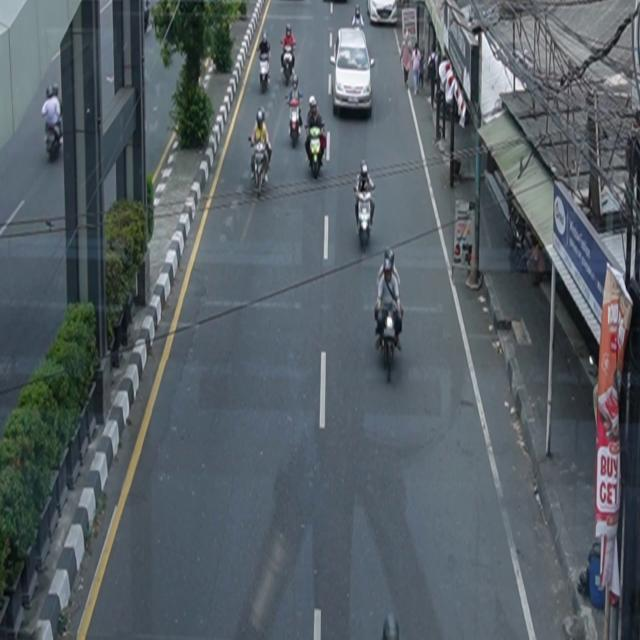car: (330, 27, 376, 119)
